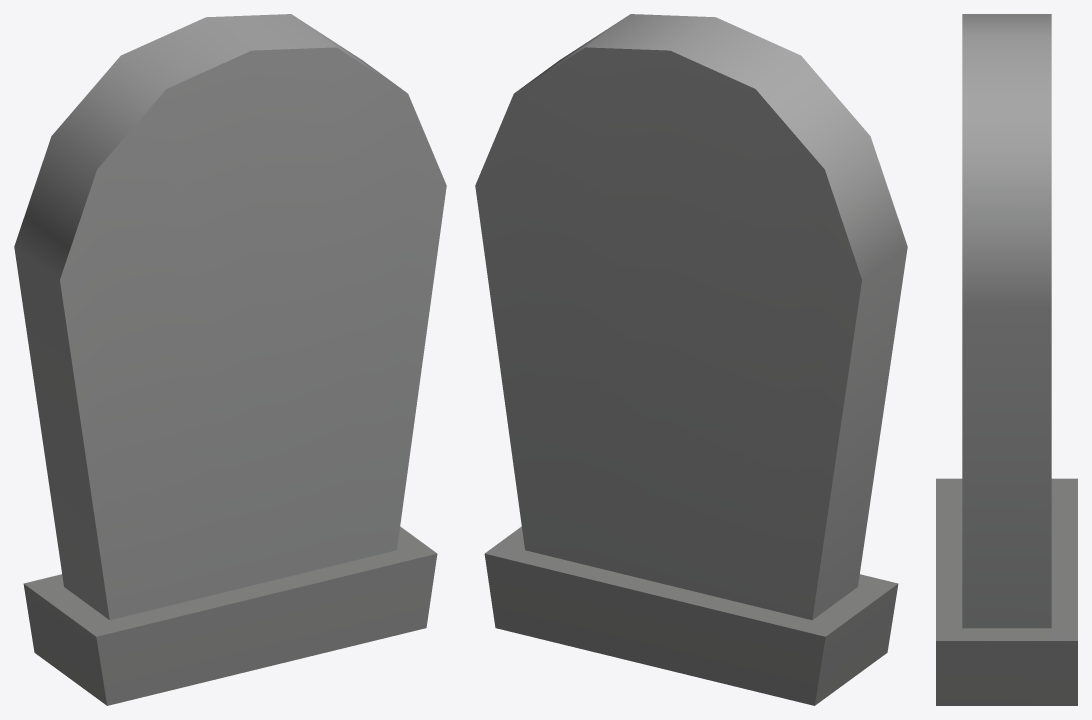
Rendered from grave_stone5.fbx.
3 views of the same model, side by side, from view 1: azimuth 30°, elevation 25°; view 2: azimuth 150°, elevation 25°; view 3: azimuth 270°, elevation 25° (orthographic). The views are drawn at different scales.
Parts seen in each view (by area): view 1: grave_stone5; view 2: grave_stone5; view 3: grave_stone5.
Boxes of the visible parts, <box> form: grave_stone5: <box>14,14,446,705</box>; grave_stone5: <box>475,14,907,705</box>; grave_stone5: <box>936,14,1077,705</box>.
Bounding box in the file's own units: 4.89 × 7.33 × 1.59.
